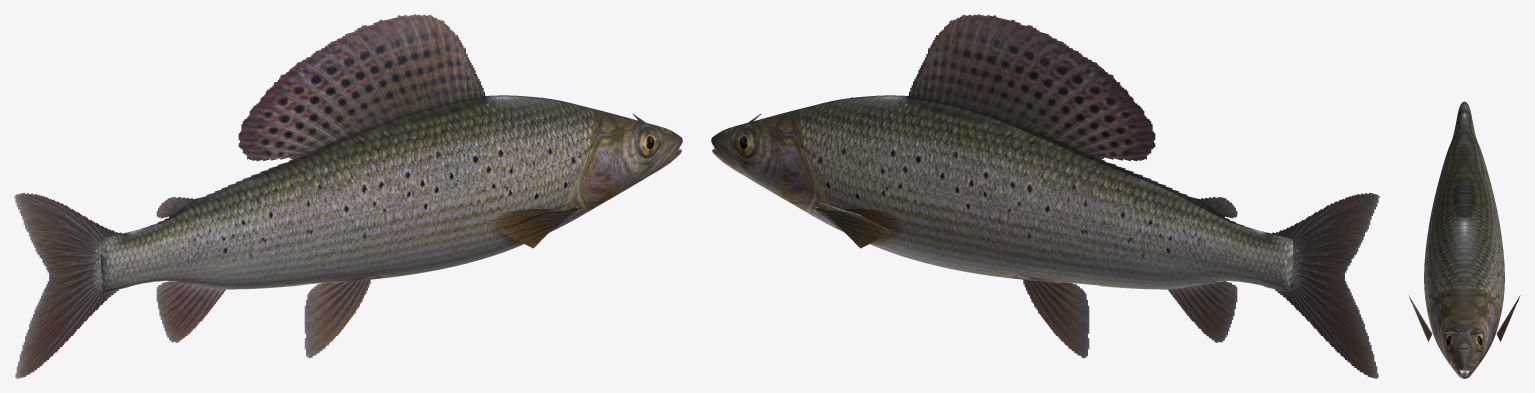
Rendered from grayling.glb.
3 views of the same model, side by side, from view 1: azimuth 30°, elevation 25°; view 2: azimuth 150°, elevation 25°; view 3: azimuth 270°, elevation 25° (orthographic). The views are drawn at different scales.
Parts seen in each view (by area): view 1: grayling_realistic.003; view 2: grayling_realistic.003; view 3: grayling_realistic.003.
Boxes of the visible parts, box(x1,y1,x2,y2) form: grayling_realistic.003: box(14, 14, 682, 378); grayling_realistic.003: box(711, 14, 1379, 378); grayling_realistic.003: box(1408, 101, 1520, 378).
Bounding box in the file's own units: 1 × 0.4594 × 0.1784.
3 materials, 3 textured.
